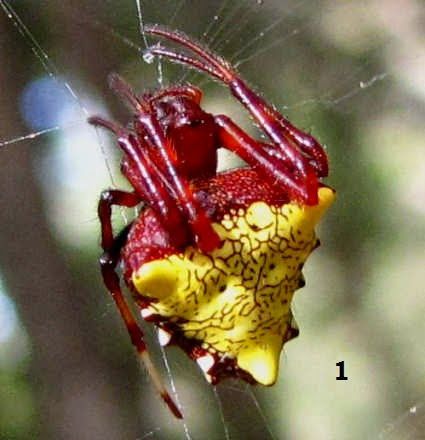spider: (75, 1, 356, 418)
